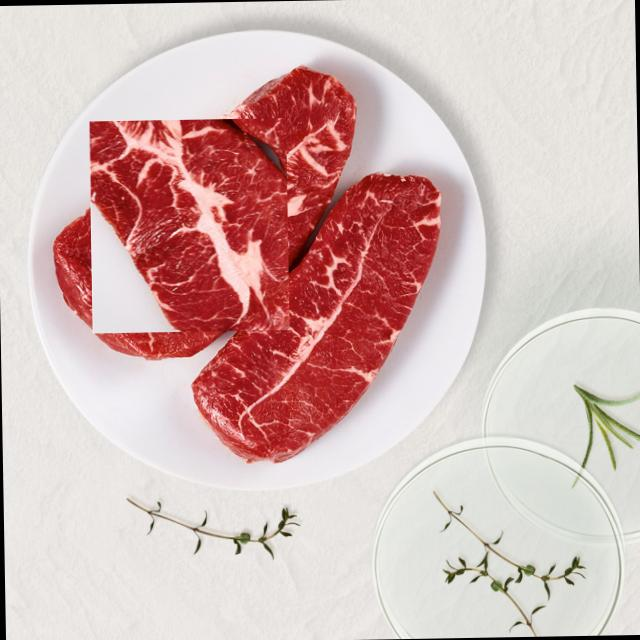beef: (85, 121, 294, 329)
